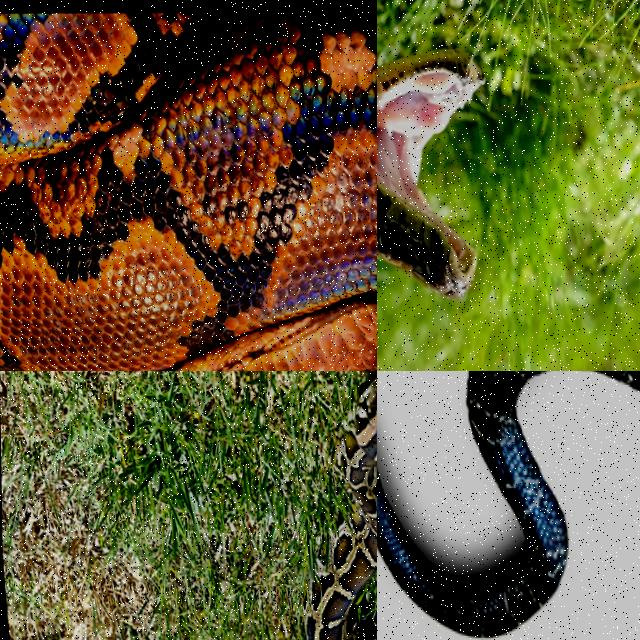Malayopython reticulatus: (0, 13, 376, 370)
Naja siamensis: (377, 371, 567, 634)
Python bivittatus: (377, 49, 484, 297), (305, 380, 376, 639)
